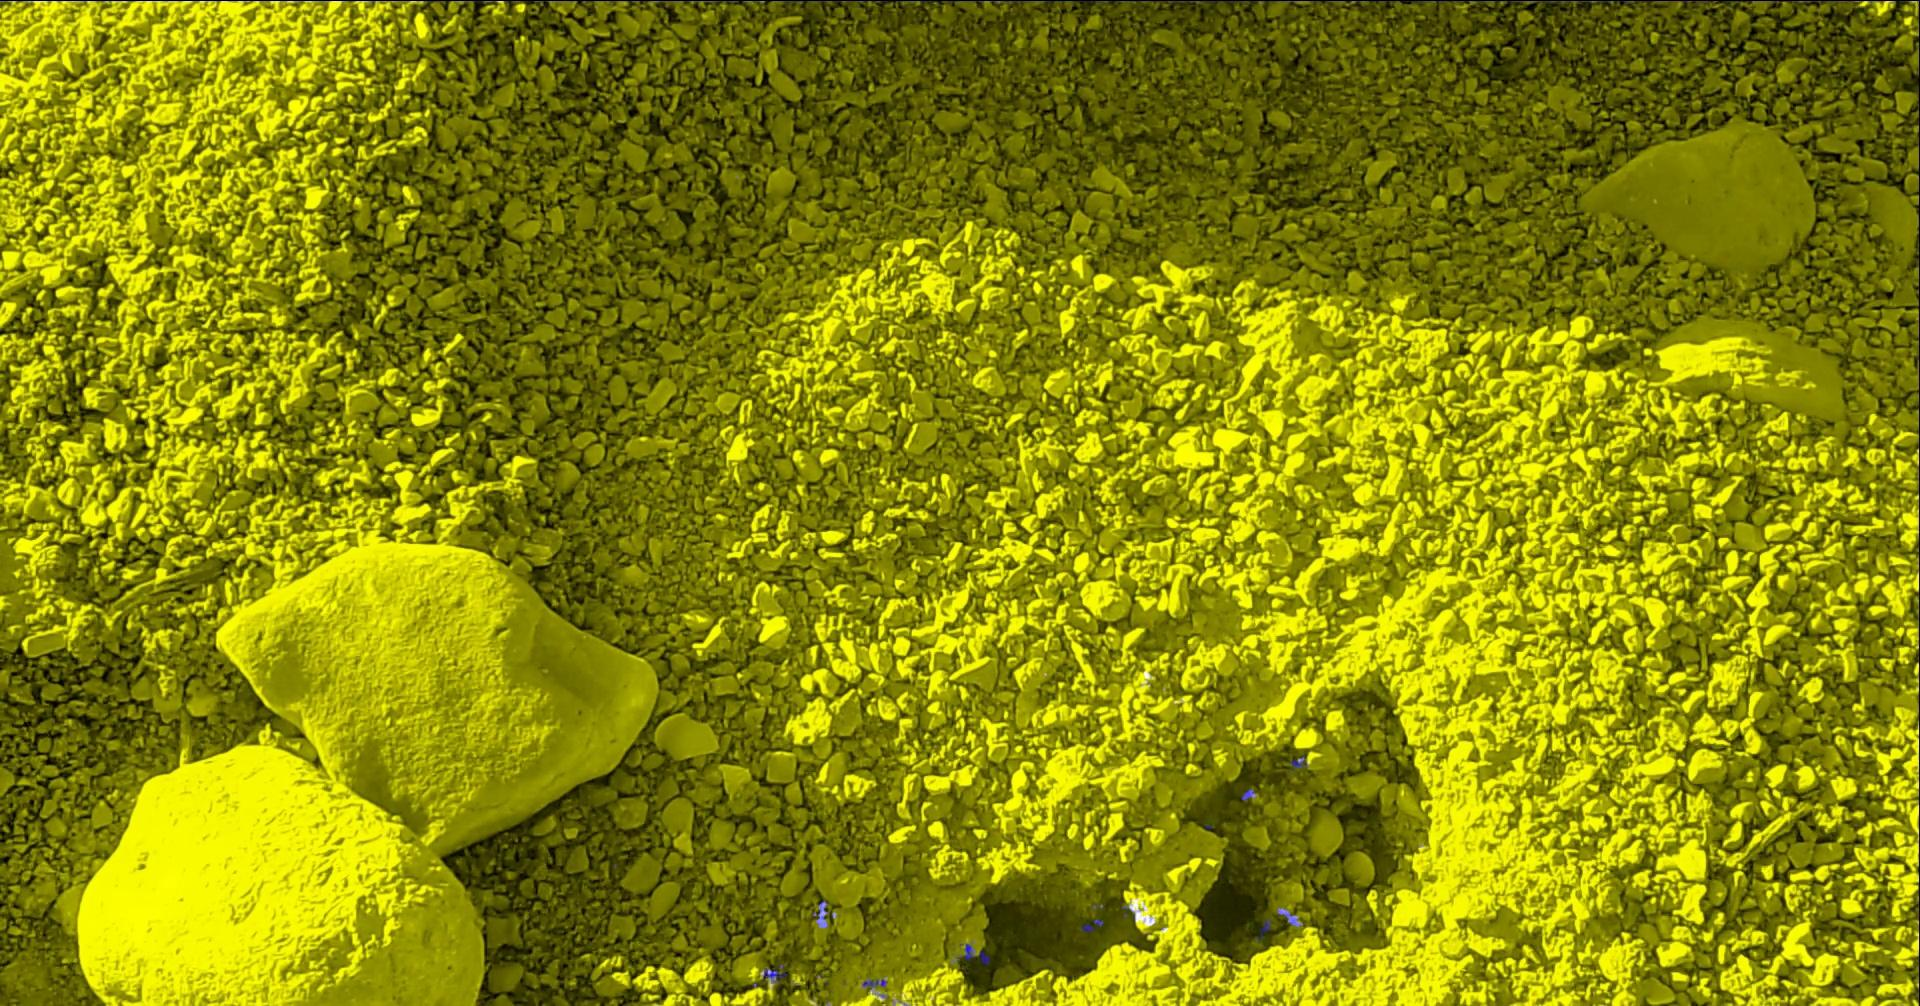ant: (762, 963, 786, 982), (1451, 0, 1618, 3), (1255, 920, 1270, 942), (1079, 918, 1103, 931), (811, 901, 827, 920), (1289, 756, 1305, 772), (959, 942, 974, 960), (862, 978, 886, 988), (770, 0, 885, 1), (658, 0, 745, 1), (1647, 0, 1717, 1), (1790, 0, 1854, 1), (1324, 0, 1384, 1), (989, 0, 1046, 1)
